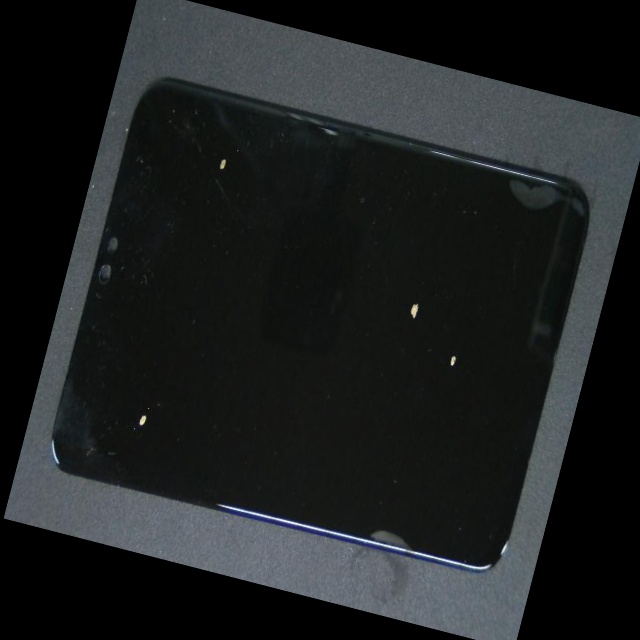stain: (215, 151, 621, 538), (239, 138, 620, 430), (50, 215, 225, 555), (123, 65, 296, 273)
